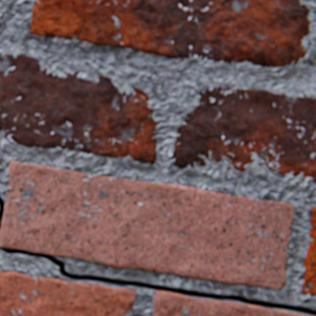brick: (0, 161, 292, 289), (30, 0, 308, 68), (0, 55, 157, 163), (171, 88, 315, 183), (0, 271, 135, 315), (152, 290, 300, 315), (300, 208, 315, 294)
crack: (0, 247, 315, 315), (0, 197, 4, 226)
